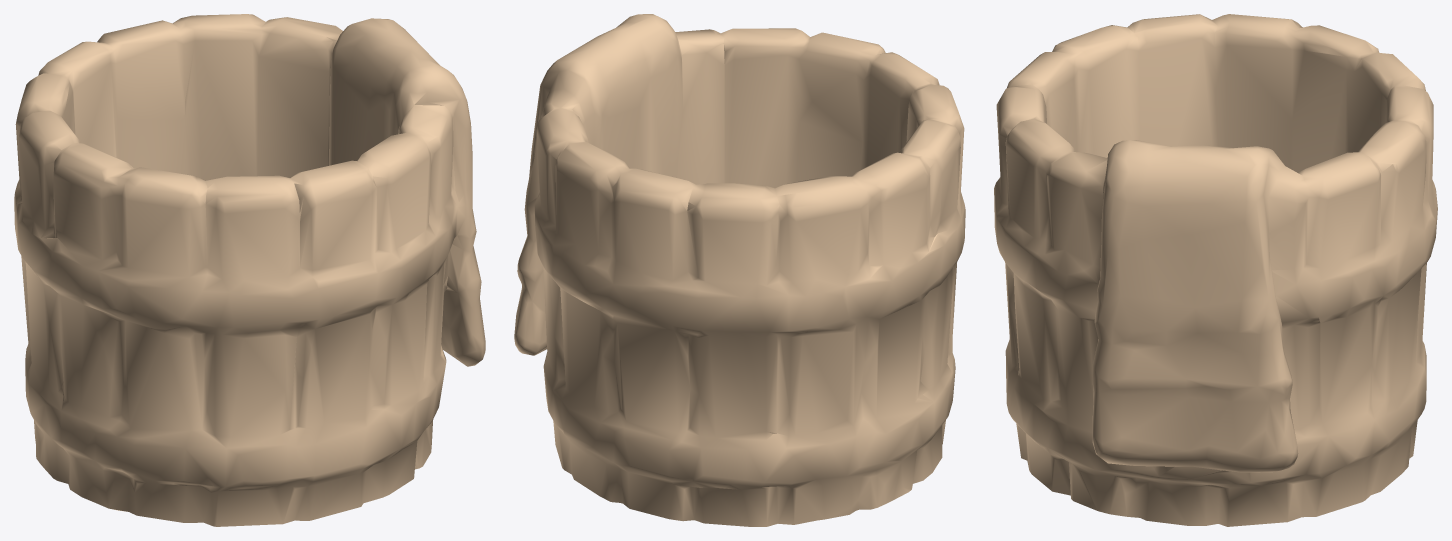
Rendered from show_spa_bucket.glb.
The picture shows the model from 3 angles, left to right: view 1: azimuth 30°, elevation 25°; view 2: azimuth 150°, elevation 25°; view 3: azimuth 270°, elevation 25°; orthographic projection. The views are drawn at different scales.
Size of the model in its own units: 0.65 by 0.58 by 0.6245.
